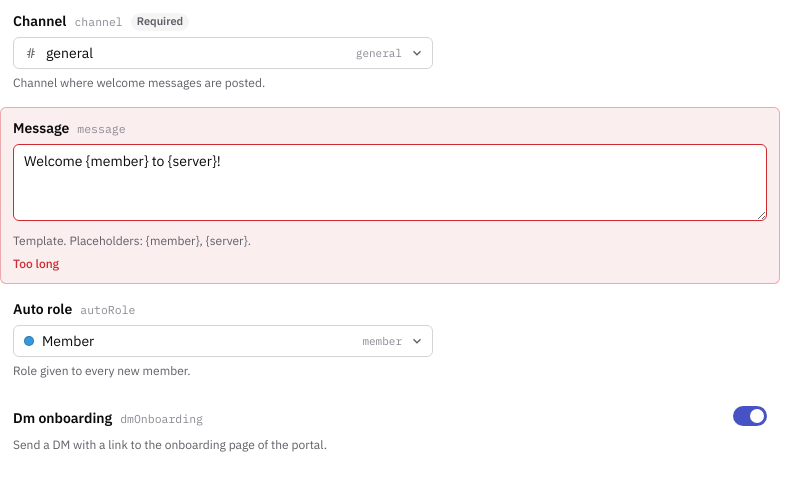
Test: rendering the welcome schema › marks modified fields and shows field errors
Expected: the message reads "Too long", [13,256,59,271]
Expected: the text "Modified" is not shown
Click the switch named "Dm onboarding".
click(750, 416)  # box [733,406,767,426]
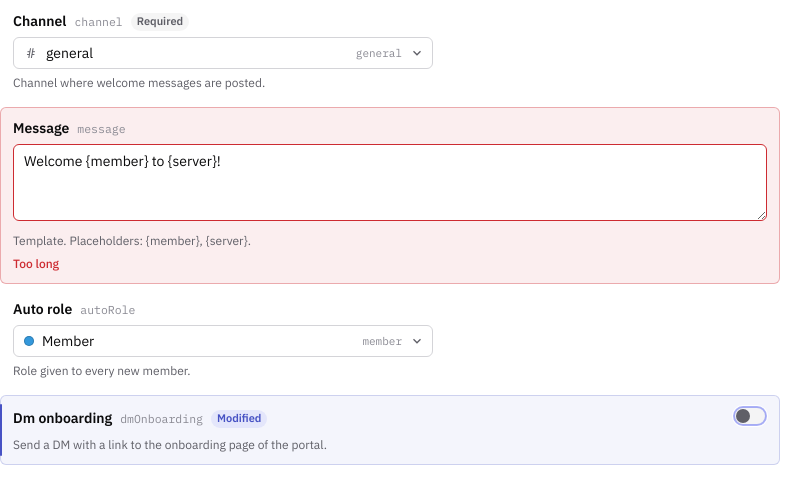
Expected: the text "Modified" is shown, [211,410,267,428]
